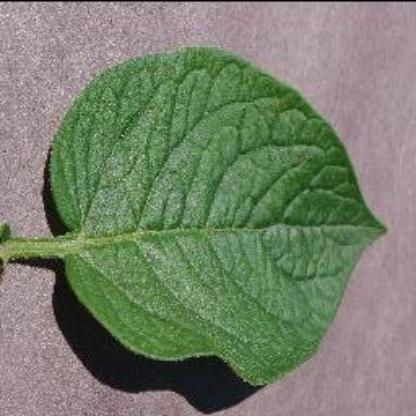Healthy-plant: (8, 47, 390, 391)
